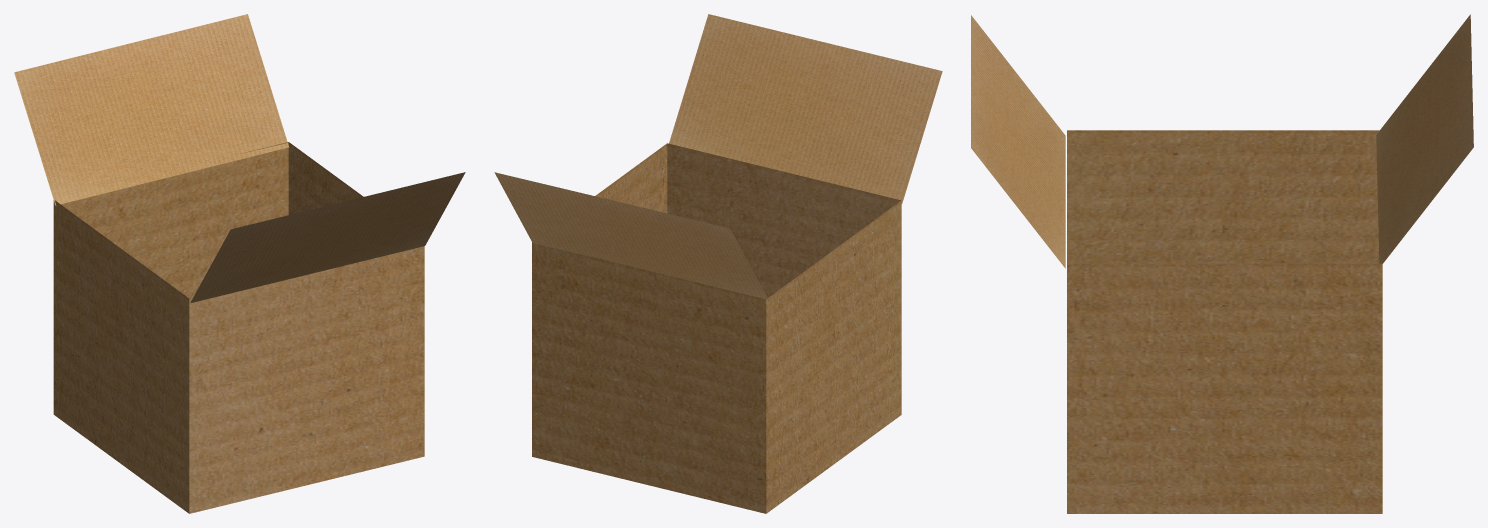
The model's file is ballot.glb.
3 renders of one model, left to right at view 1: azimuth 30°, elevation 25°; view 2: azimuth 150°, elevation 25°; view 3: azimuth 270°, elevation 25°, orthographic. The views are drawn at different scales.
Parts seen in each view (by area): view 1: Cube; view 2: Cube; view 3: Cube.
Boxes of the visible parts, x1,y1,x2,y2 form: Cube: [14, 14, 465, 513]; Cube: [494, 14, 942, 513]; Cube: [971, 14, 1473, 513].
Size of the model in its own units: 2.01 by 2.56 by 3.19.
3 materials, 3 textured.
